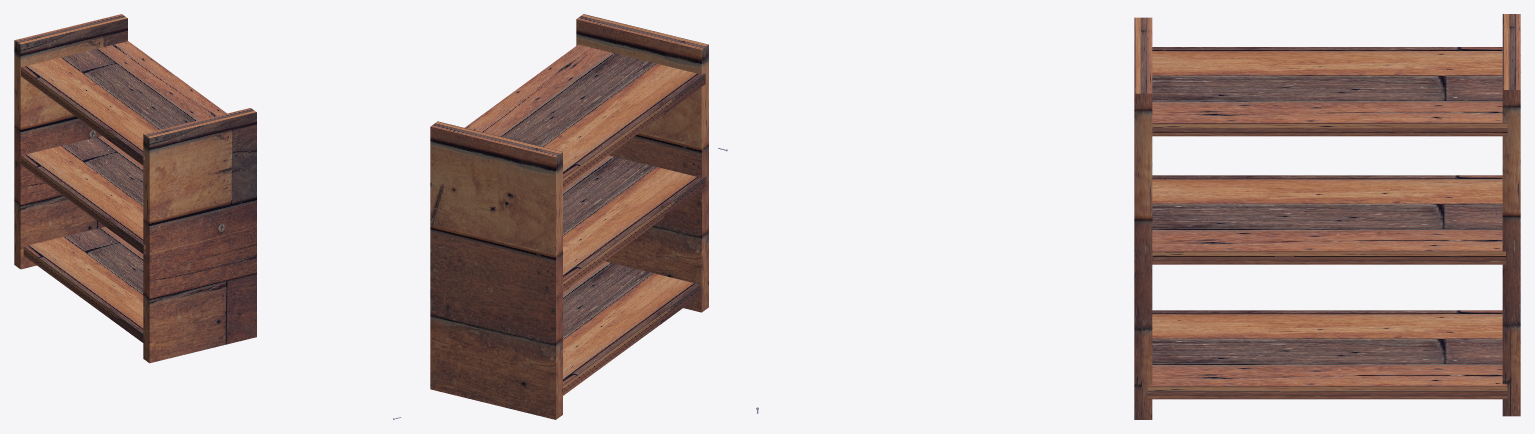
Rendered from mini-mueble.glb.
3 views of the same model, side by side, from view 1: azimuth 30°, elevation 25°; view 2: azimuth 150°, elevation 25°; view 3: azimuth 270°, elevation 25° (orthographic). The views are drawn at different scales.
Parts seen in each view (by area): view 1: Cube.001, Cube.002, Cube, Cube.003, Cube.004; view 2: Cube, Cube.002, Cube.001, Cube.003, Cube.004; view 3: Cube.004, Cube.002, Cube.003, Cube.001, Cube.
Part boxes in pixels (x1,y1,x2,y2): Cube.001: (143,108,256,363); Cube.002: (21,41,226,165); Cube: (14,14,127,269); Cube.003: (21,136,145,254); Cube.004: (23,226,143,342); Cube: (430,121,562,419); Cube.002: (464,44,705,188); Cube.001: (576,14,708,312); Cube.003: (563,155,706,291); Cube.004: (563,261,700,395); Cube.004: (1147,310,1507,399); Cube.002: (1152,47,1507,136); Cube.003: (1152,175,1505,264); Cube.001: (1134,17,1152,419); Cube: (1502,14,1520,416).
Size of the model in its own units: 1.16 by 2.01 by 4.25.
2 materials, 2 textured.
